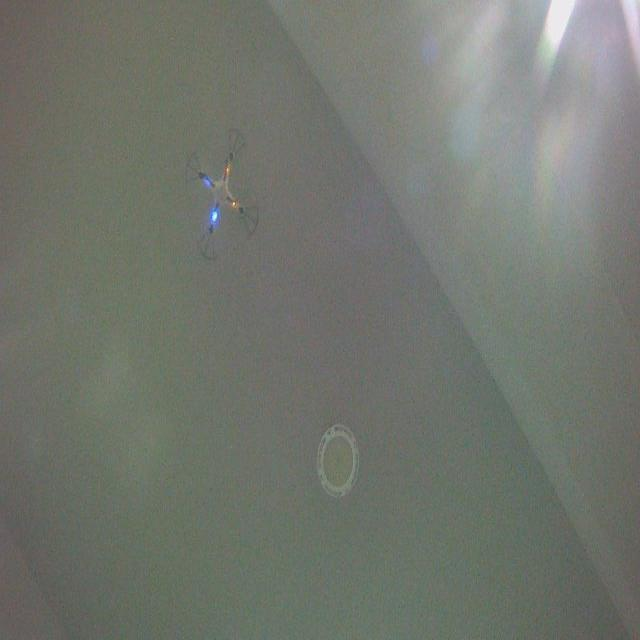drone: (182, 126, 260, 265)
